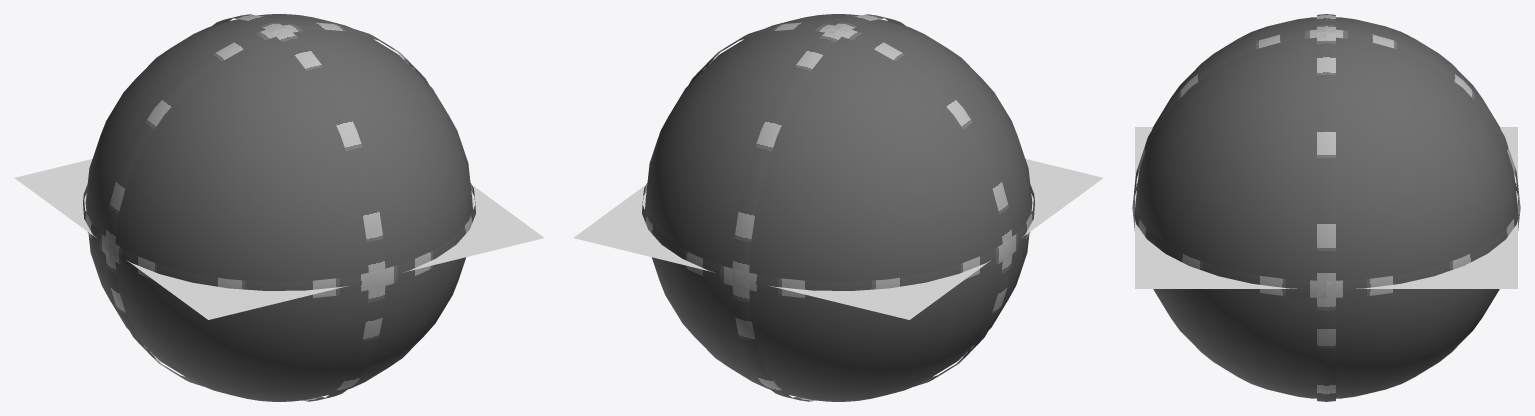
Rendered from SphereTrigger.glb.
The picture shows the model from 3 angles, left to right: view 1: azimuth 30°, elevation 25°; view 2: azimuth 150°, elevation 25°; view 3: azimuth 270°, elevation 25°; orthographic projection.
Visible parts, largest first — view 1: Sphere; view 2: Sphere; view 3: Sphere.
Boxes of the visible parts, x1,y1,x2,y2 form: Sphere: [14, 14, 544, 401]; Sphere: [573, 14, 1103, 401]; Sphere: [1132, 14, 1520, 401].
Size of the model in its own units: 1.01 by 1.01 by 1.01.
Materials: 2 (1 with a texture image).
